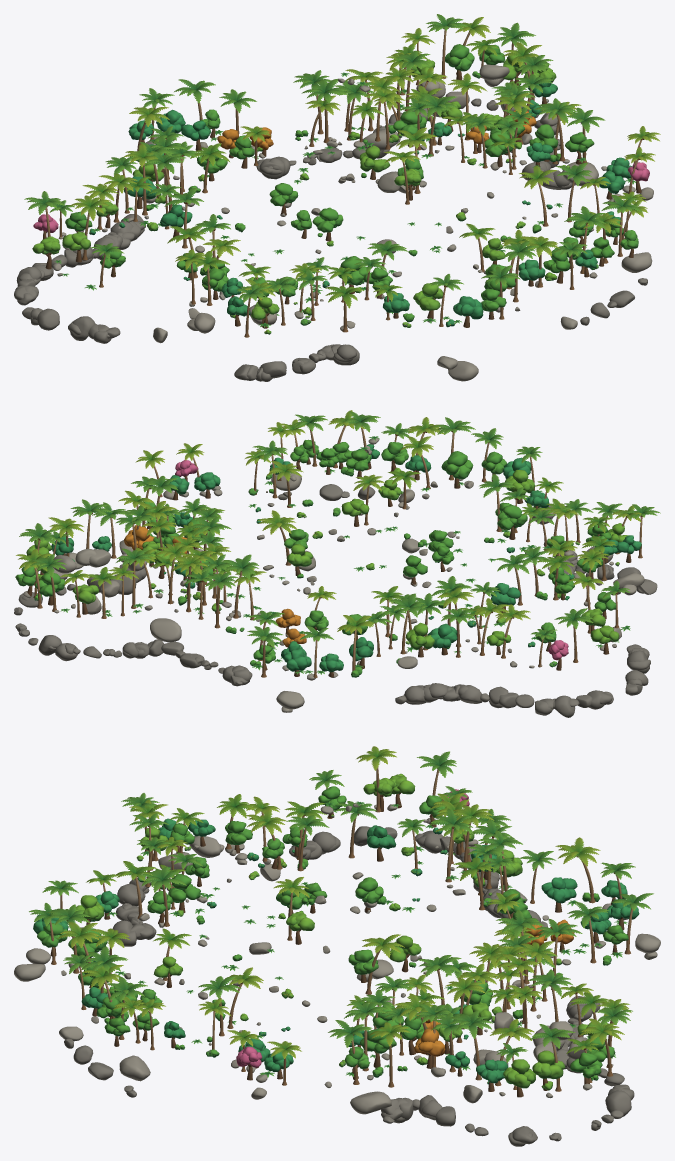
Rendered from cay.glb.
3 renders of one model, top to bottom at view 1: azimuth 30°, elevation 25°; view 2: azimuth 150°, elevation 25°; view 3: azimuth 270°, elevation 25°, orthographic. The views are drawn at different scales.
Visible parts, largest first — view 1: cay_5_2, cay_6_3, cay_1_2, cay_0_3, cay_7_1, cay_5_6, cay_7_3, cay_2_2, cay_1_6, cay_1_5, cay_6_6, cay_6_1 (+29 smaller); view 2: cay_1_2, cay_6_1, cay_5_1, cay_7_2, cay_2_2, cay_5_2, cay_0_3, cay_5_6, cay_7_1, cay_6_3, cay_6_6, cay_4_6 (+30 smaller); view 3: cay_7_2, cay_6_3, cay_7_3, cay_7_1, cay_5_2, cay_2_2, cay_6_6, cay_6_1, cay_1_5, cay_0_3, cay_1_4, cay_5_6 (+29 smaller).
Part boxes in pixels (x1,y1,x2,y2): cay_5_2: (338,77,457,156); cay_6_3: (455,84,558,174); cay_1_2: (64,144,157,267); cay_0_3: (14,191,111,330); cay_7_1: (445,17,556,128); cay_5_6: (543,206,616,318); cay_7_3: (522,98,605,189); cay_2_2: (129,134,229,241); cay_1_6: (234,276,315,381); cay_1_5: (188,251,279,333); cay_6_6: (583,191,652,307); cay_6_1: (385,14,467,126); cay_1_2: (422,587,530,708); cay_6_1: (30,547,156,658); cay_5_1: (122,543,212,668); cay_7_2: (21,499,127,600); cay_2_2: (371,576,471,696); cay_5_2: (150,516,245,613); cay_0_3: (531,571,648,709); cay_5_6: (316,411,413,499); cay_7_1: (14,523,76,636); cay_6_3: (124,498,224,561); cay_6_6: (268,410,364,500); cay_4_6: (388,417,473,509); cay_7_2: (431,1010,535,1146); cay_6_3: (347,975,452,1071); cay_7_3: (328,1001,442,1123); cay_7_1: (512,1018,624,1144); cay_5_2: (417,935,539,1029); cay_2_2: (428,808,527,920); cay_6_6: (81,965,165,1097); cay_6_1: (507,969,632,1086); cay_1_5: (158,794,258,872); cay_0_3: (354,746,456,853); cay_1_4: (245,796,329,871); cay_5_6: (63,946,162,1065).
Size of the model in its own units: 133 by 39.79 by 116.
